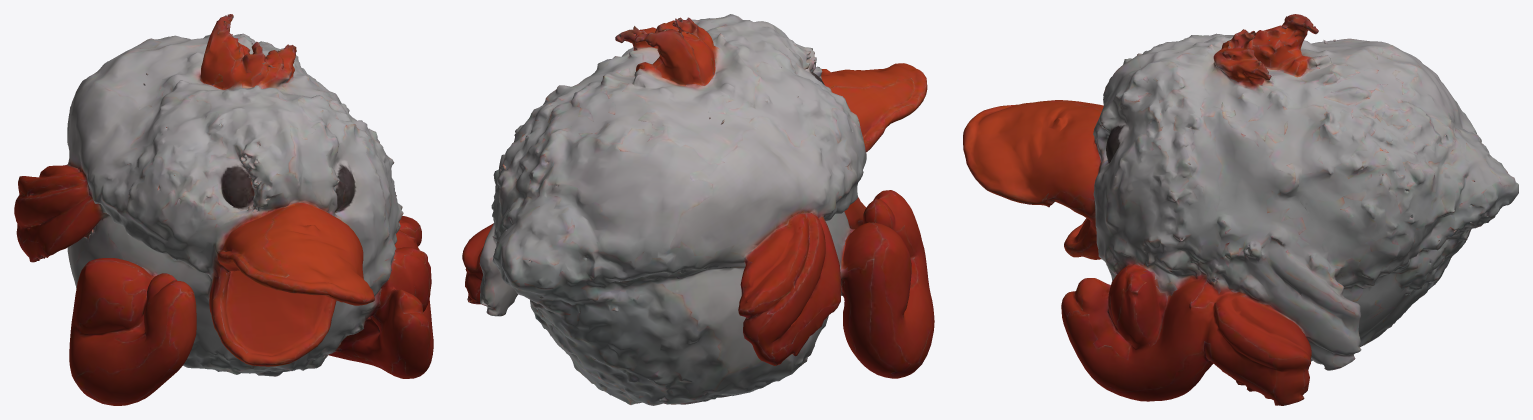
Rendered from duck.glb.
3 renders of one model, left to right at view 1: azimuth 30°, elevation 25°; view 2: azimuth 150°, elevation 25°; view 3: azimuth 270°, elevation 25°, orthographic. The views are drawn at different scales.
Parts seen in each view (by area): view 1: world; view 2: world; view 3: world.
Boxes of the visible parts, x1,y1,x2,y2 form: world: (14,14,433,405); world: (462,14,934,405); world: (963,14,1518,405).
Bounding box in the file's own units: 0.8013 × 0.6509 × 0.9996.
Materials: 1 (1 with a texture image).
